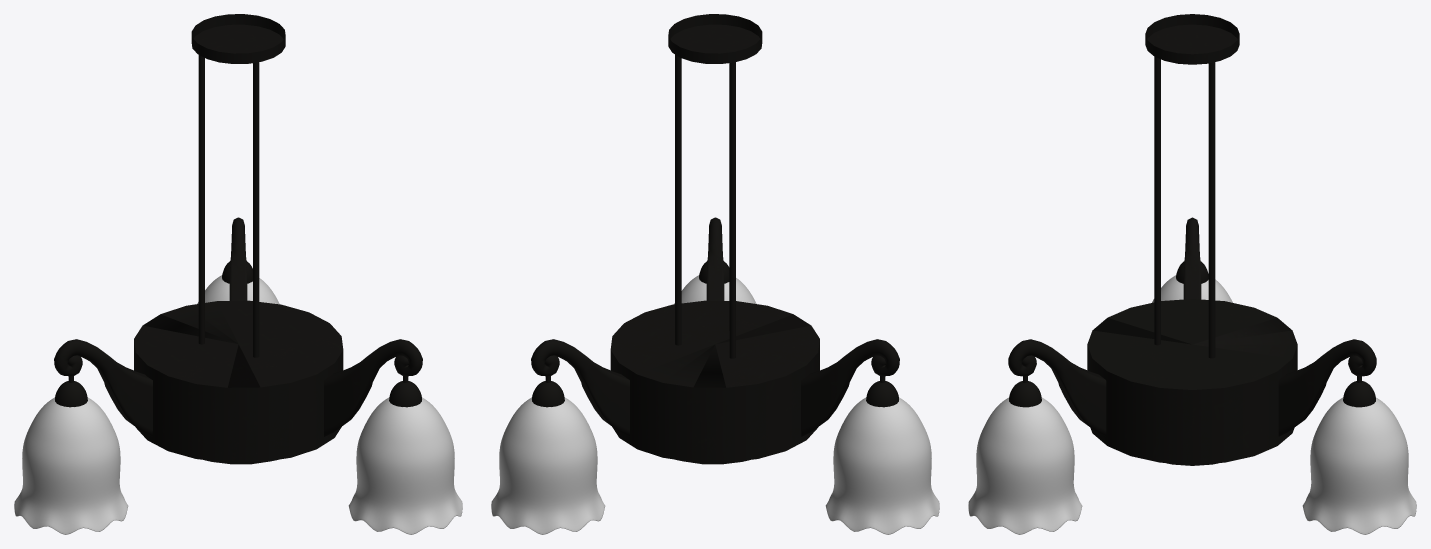
File: SM_Chandelier_2.fbx
The picture shows the model from 3 angles, left to right: view 1: azimuth 30°, elevation 25°; view 2: azimuth 150°, elevation 25°; view 3: azimuth 270°, elevation 25°; orthographic projection.
Parts seen in each view (by area): view 1: SM_Chandelier_2; view 2: SM_Chandelier_2; view 3: SM_Chandelier_2.
Part boxes in pixels (x1=…): SM_Chandelier_2: x1=14, y1=14, x2=462, y2=534; SM_Chandelier_2: x1=491, y1=14, x2=939, y2=534; SM_Chandelier_2: x1=968, y1=14, x2=1416, y2=534.
Bounding box in the file's own units: 127 × 142 × 152.
Materials: 2 (1 with a texture image).
